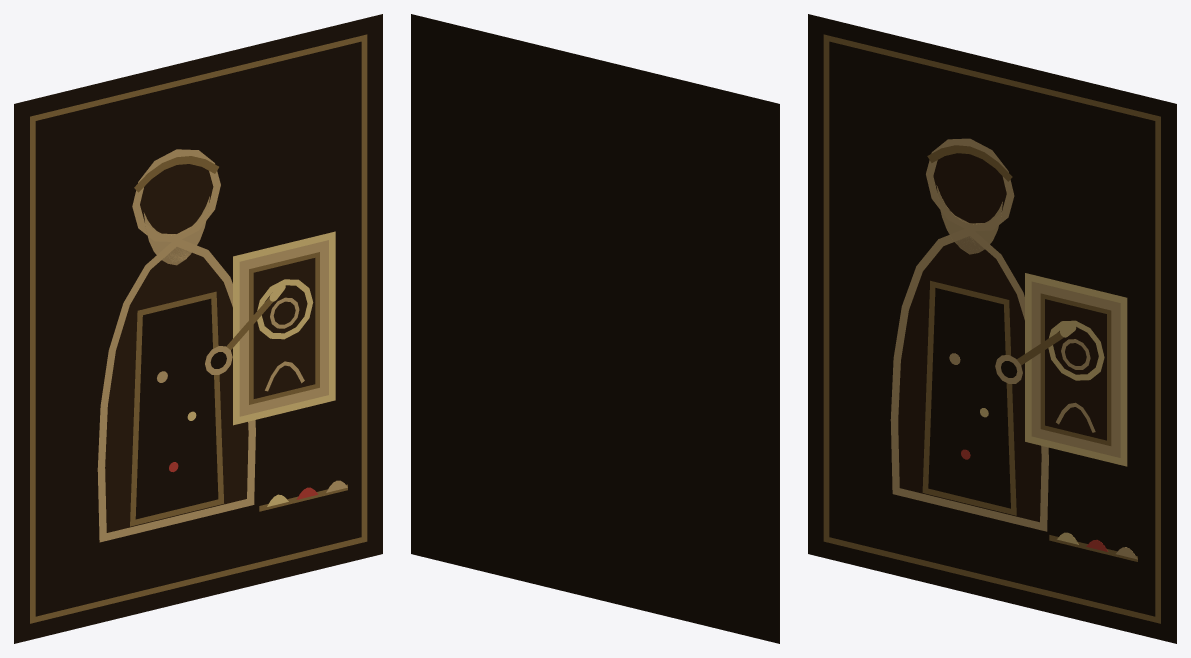
Rendered from npc-ikonopisets.glb.
The picture shows the model from 3 angles, left to right: view 1: azimuth 30°, elevation 25°; view 2: azimuth 150°, elevation 25°; view 3: azimuth 330°, elevation 25°; orthographic projection.
Parts seen in each view (by area): view 1: npc-ikonopisets; view 2: npc-ikonopisets; view 3: npc-ikonopisets.
Part boxes in pixels (x1,y1,x2,y2): npc-ikonopisets: (14, 14, 382, 643); npc-ikonopisets: (411, 14, 779, 643); npc-ikonopisets: (808, 14, 1176, 643).
Bounding box in the file's own units: 1.25 × 1.75 × 0.0138.
